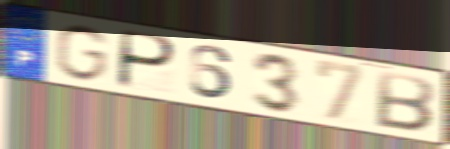3: (249, 53, 303, 114)
6: (188, 43, 235, 102)
7: (313, 57, 370, 125)
B: (372, 69, 438, 135)
G: (53, 23, 112, 84)
P: (114, 28, 180, 92)
